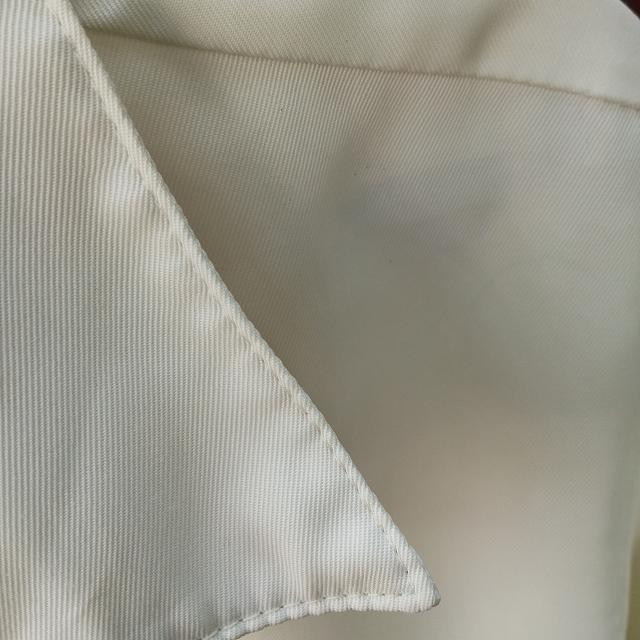education_male_uniform: (1, 0, 531, 640)
